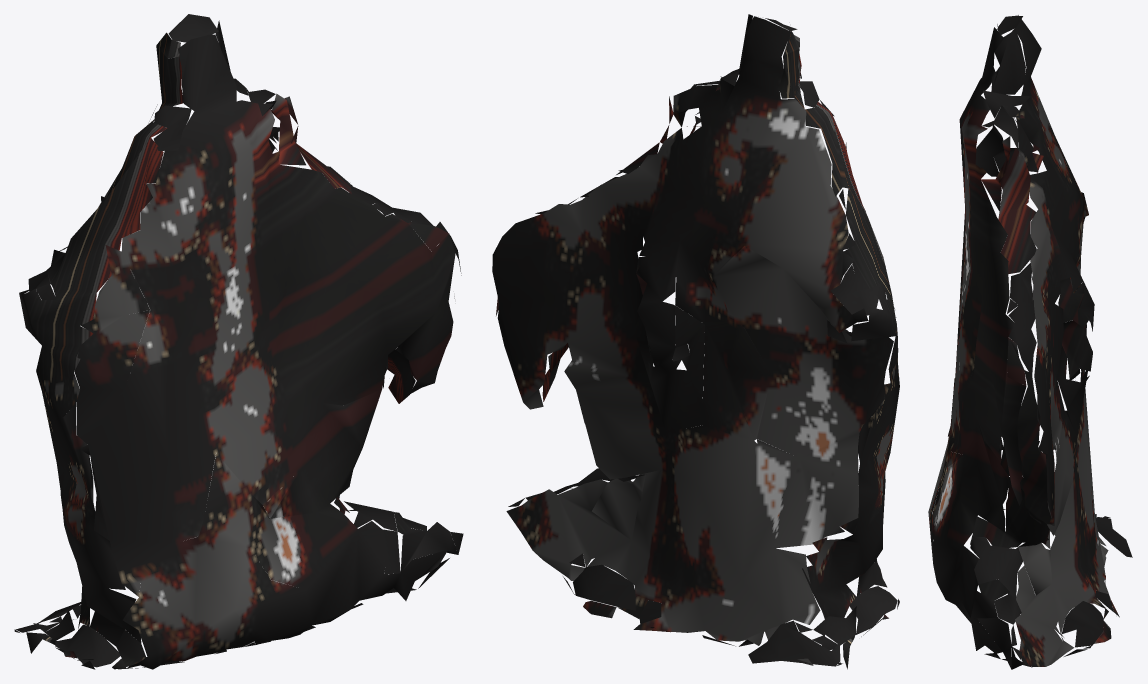
3 views of the same model, side by side, from view 1: azimuth 30°, elevation 25°; view 2: azimuth 150°, elevation 25°; view 3: azimuth 270°, elevation 25° (orthographic). The views are drawn at different scales.
Visible parts, largest first — view 1: body.002; view 2: body.002; view 3: body.002.
Boxes of the visible parts, <box> form: body.002: <box>14,14,463,669</box>; body.002: <box>492,14,899,669</box>; body.002: <box>928,15,1132,669</box>.
Bounding box in the file's own units: 1.43 × 2.02 × 0.6608.
1 material, 1 textured.
